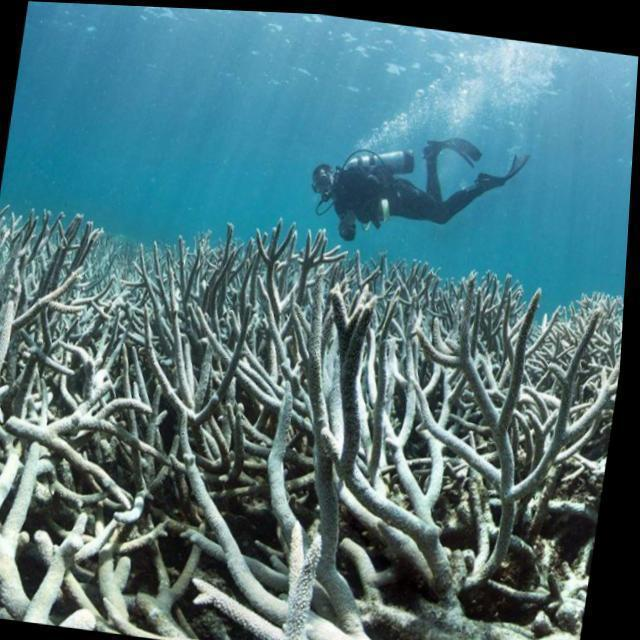Dead Coral: (0, 201, 631, 640)
